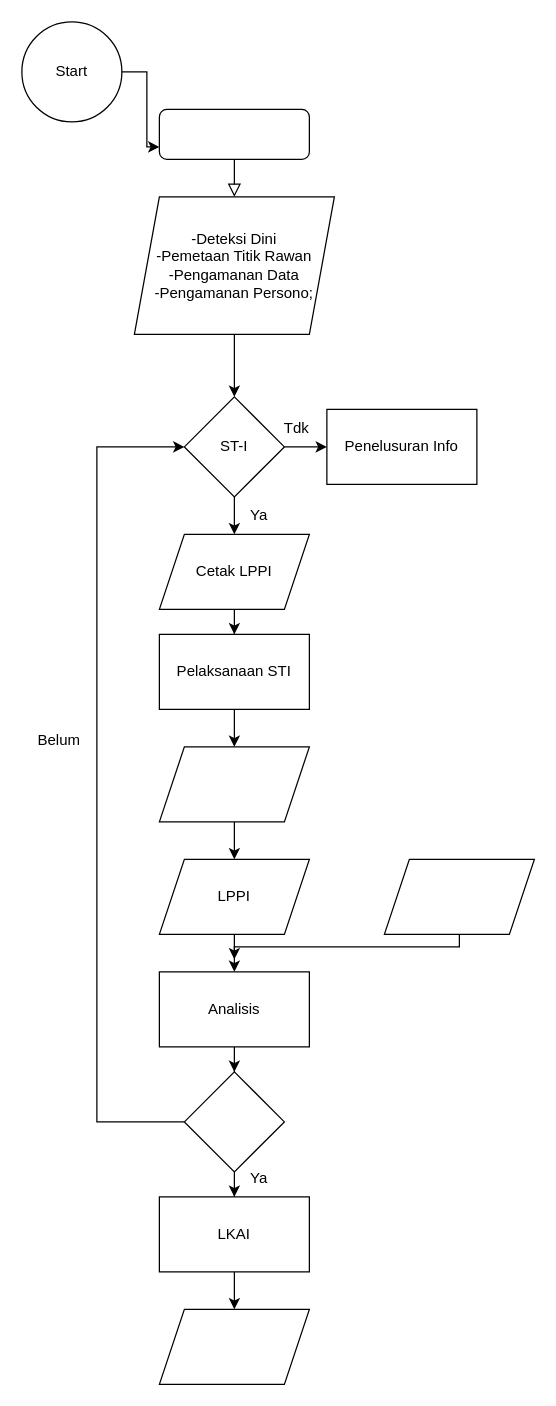
Image size: 556x1406. Some labels were removed from this diagram. The shapes that lost their labels are listed below. From the top down, each one's centre as x and y in pixels, then its label:
At (233,133): "Perencaan Intelijen".
At (233,784): "LPTI".
At (458,896): "NPI".
At (233,1121): "Layak".
At (233,1346): "NHI/NI".
